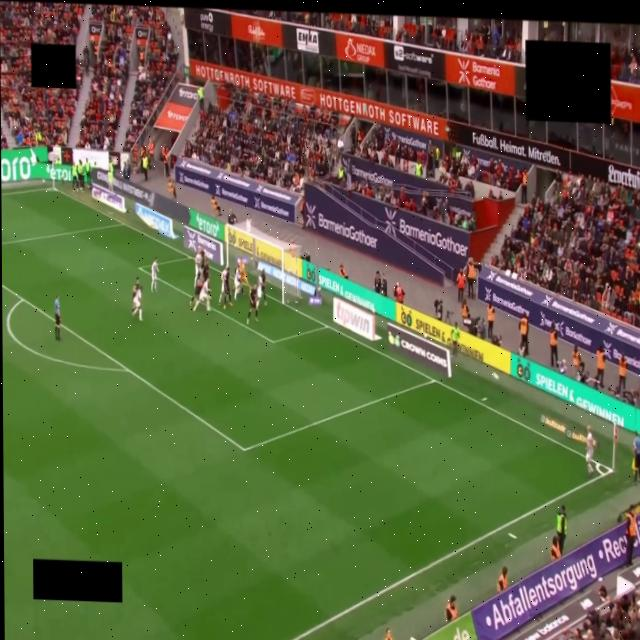ball: (492, 372, 499, 380)
player: (585, 426, 597, 475), (219, 264, 232, 309), (193, 276, 209, 311), (190, 271, 203, 308), (247, 285, 258, 324), (132, 277, 141, 320), (194, 250, 204, 286), (234, 265, 243, 300), (238, 259, 249, 287), (259, 270, 266, 305), (151, 258, 158, 292), (202, 256, 209, 281)
referee: (54, 294, 61, 341)
